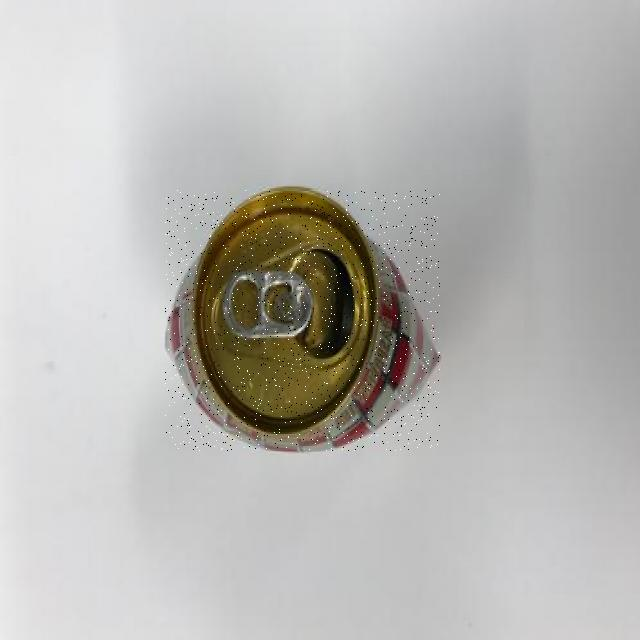metal: (166, 190, 440, 450)
